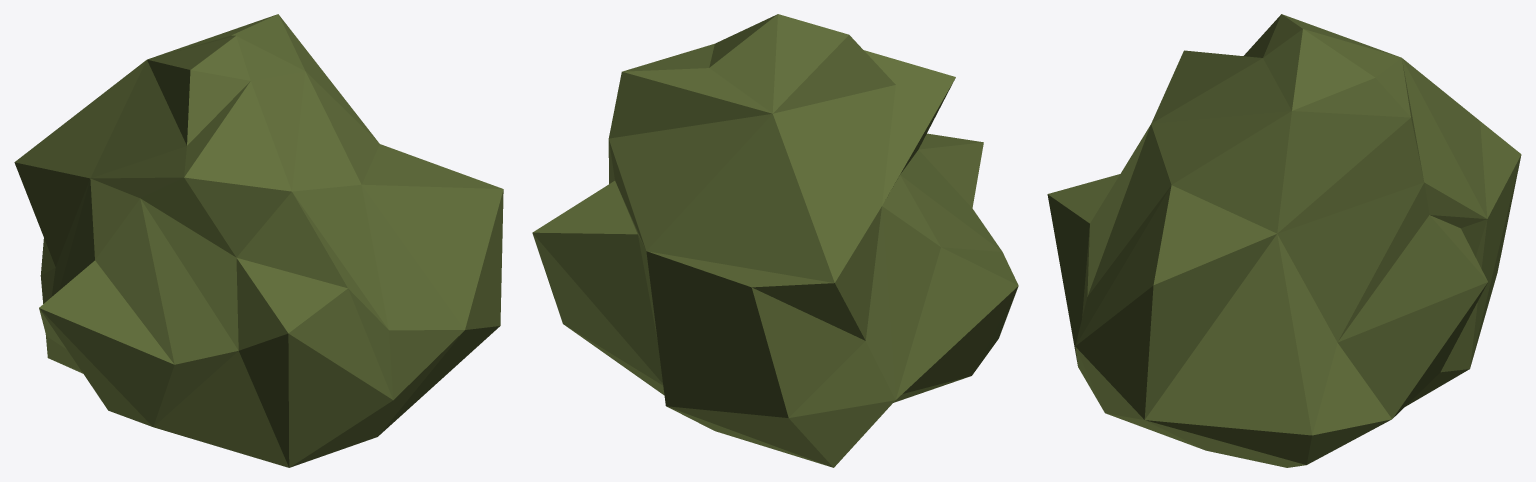
The model's file is shrub.glb.
The picture shows the model from 3 angles, left to right: view 1: azimuth 30°, elevation 25°; view 2: azimuth 150°, elevation 25°; view 3: azimuth 270°, elevation 25°; orthographic projection. The views are drawn at different scales.
Parts seen in each view (by area): view 1: shrub; view 2: shrub; view 3: shrub.
Boxes of the visible parts, <box> form: shrub: <box>14,14,503,467</box>; shrub: <box>532,14,1018,467</box>; shrub: <box>1047,14,1521,467</box>.
Size of the model in its own units: 2.08 by 1.87 by 2.
Materials: 1 (1 with a texture image).
